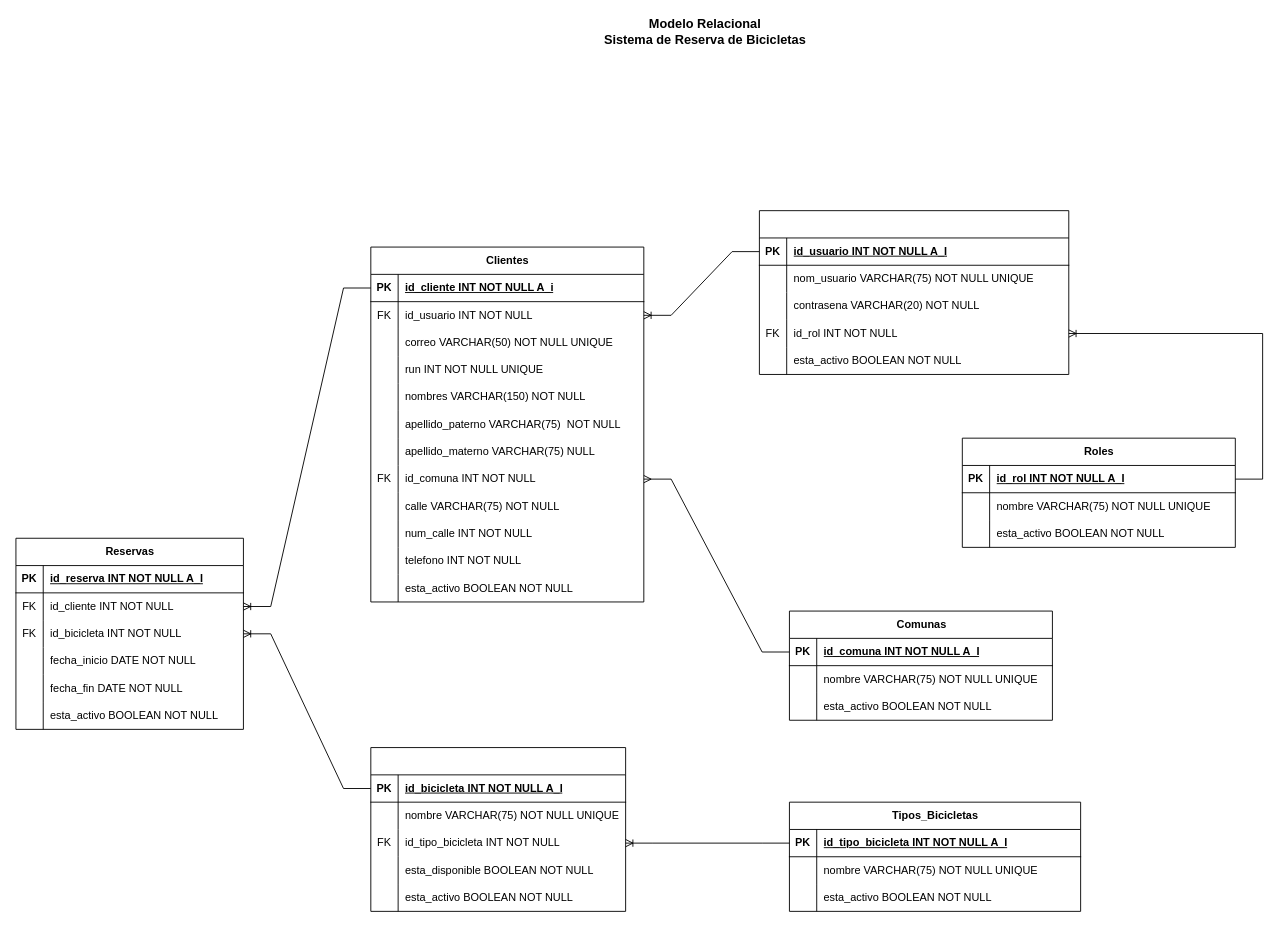
This 1286x927 diagram has some shape labels left out. Here are the shapes that lost their labels. From the top down, the box of each, then its label:
(758, 210, 1069, 374): Usuarios
(370, 747, 626, 911): Bicicletas
